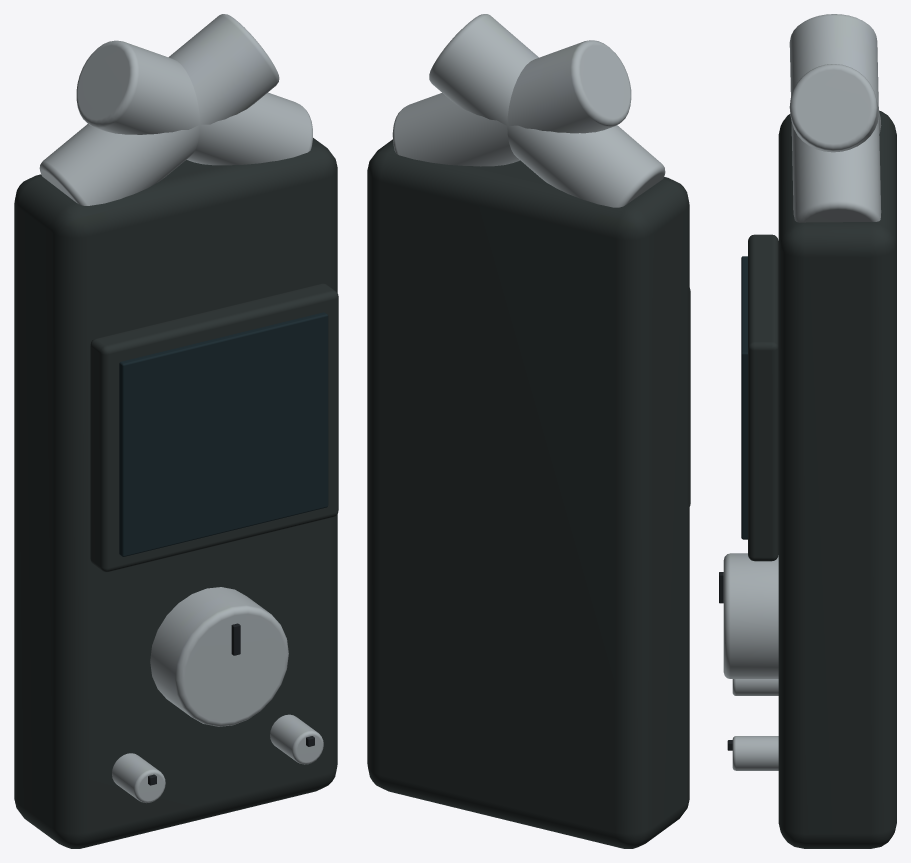
Rendered from crime-field-recorder.glb.
3 renders of one model, left to right at view 1: azimuth 30°, elevation 25°; view 2: azimuth 150°, elevation 25°; view 3: azimuth 270°, elevation 25°, orthographic. The views are drawn at different scales.
Visible parts, largest first — view 1: Handheld recorder body, Inset display glass, Screen surround, Crossed microphone capsule, Crossed microphone capsule.001, Rotary control, Rotary control.002, Rotary control.001; view 2: Handheld recorder body, Crossed microphone capsule, Crossed microphone capsule.001; view 3: Handheld recorder body, Crossed microphone capsule.001, Screen surround, Rotary control, Crossed microphone capsule, Inset display glass, Rotary control.002, Rotary control.001.
Boxes of the visible parts, x1,y1,x2,y2 form: Handheld recorder body: (14,138,337,848); Inset display glass: (119,312,328,556); Screen surround: (90,283,338,572); Crossed microphone capsule: (39,14,279,205); Crossed microphone capsule.001: (76,40,312,165); Rotary control: (150,587,288,726); Rotary control.002: (270,714,323,764); Rotary control.001: (112,753,165,802); Handheld recorder body: (367,139,689,848); Crossed microphone capsule: (429,14,665,207); Crossed microphone capsule.001: (392,40,631,166); Handheld recorder body: (778,110,896,848); Crossed microphone capsule.001: (789,14,881,222); Screen surround: (748,234,778,561); Rotary control: (723,553,778,678); Crossed microphone capsule: (789,64,881,152); Inset display glass: (741,256,747,539); Rotary control.002: (732,736,778,770); Rotary control.001: (732,679,778,695).
Bounding box in the file's own units: 0.072 × 0.1891 × 0.0406.
Materials: 4 (4 with a texture image).
